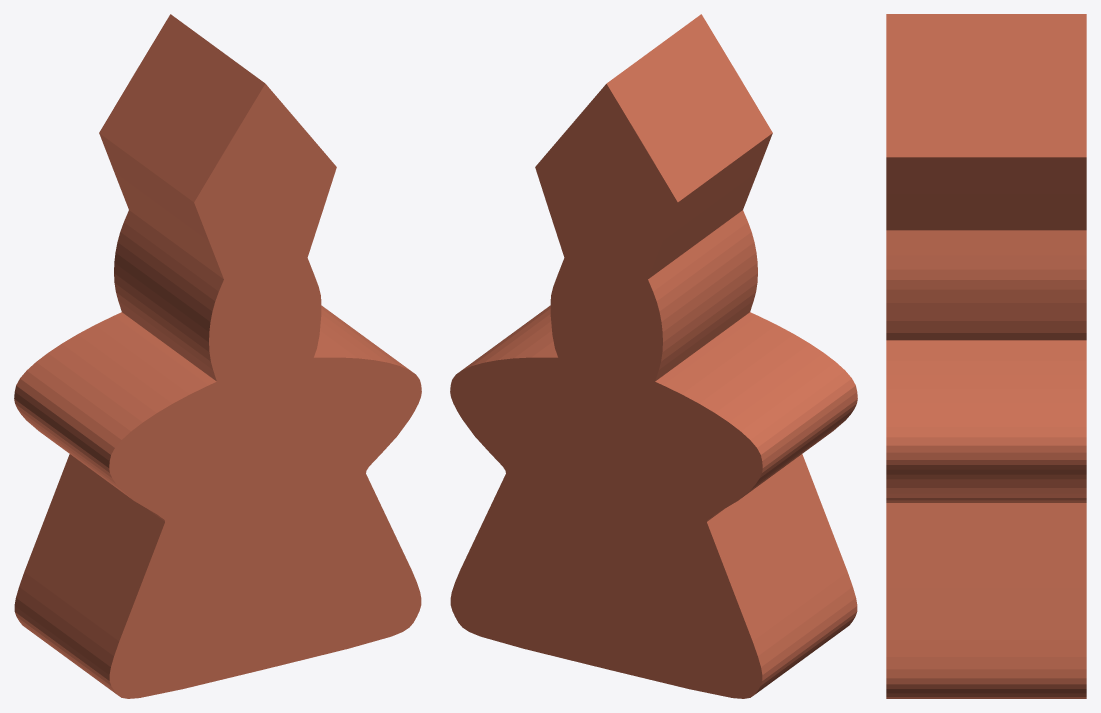
File: tinker.obj
3 renders of one model, left to right at view 1: azimuth 30°, elevation 25°; view 2: azimuth 150°, elevation 25°; view 3: azimuth 270°, elevation 25°, orthographic. The views are drawn at different scales.
Visible parts, largest first — view 1: obj_0; view 2: obj_0; view 3: obj_0.
Part boxes in pixels (left/top/right/bottom): obj_0: left=14, top=14, right=421, bottom=698; obj_0: left=450, top=14, right=857, bottom=698; obj_0: left=886, top=14, right=1086, bottom=698.
Bounding box in the file's own units: 19 × 34 × 10.
